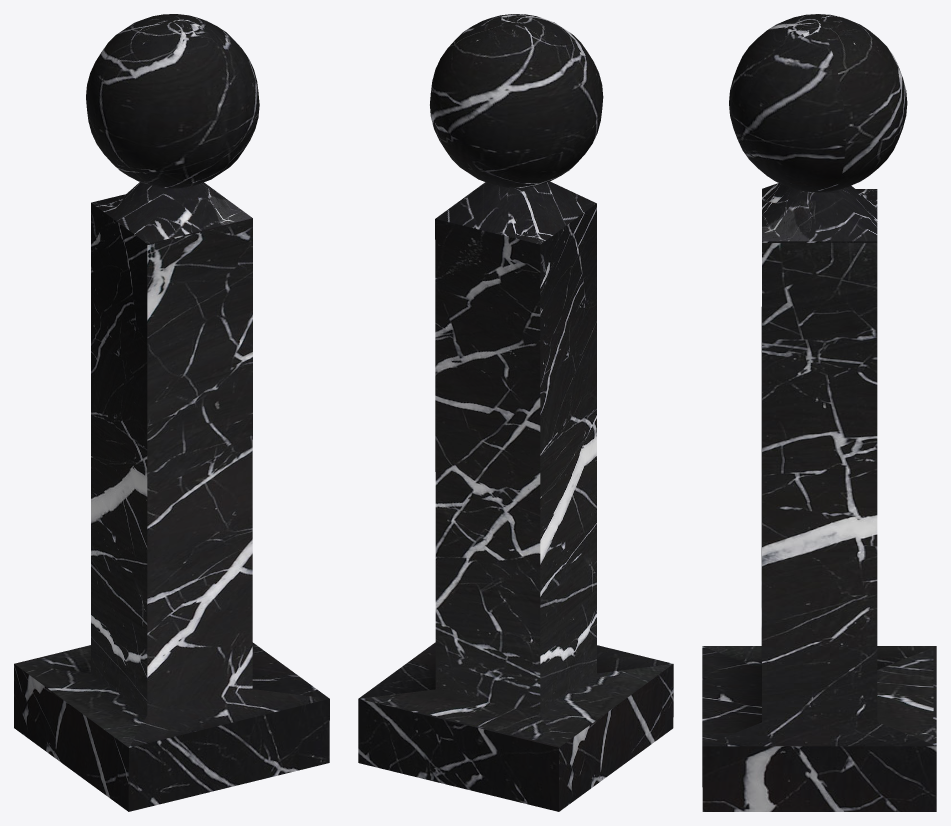
The model's file is rail1.fbx.
The picture shows the model from 3 angles, left to right: view 1: azimuth 30°, elevation 25°; view 2: azimuth 150°, elevation 25°; view 3: azimuth 270°, elevation 25°; orthographic projection. The views are drawn at different scales.
Parts seen in each view (by area): view 1: pCube1, pSphere1; view 2: pCube1, pSphere1; view 3: pCube1, pSphere1.
Part boxes in pixels (<box>): pCube1: <box>14,182,329,811</box>; pSphere1: <box>86,14,259,188</box>; pCube1: <box>358,181,673,811</box>; pSphere1: <box>430,14,603,187</box>; pCube1: <box>702,183,936,811</box>; pSphere1: <box>729,14,907,192</box>.
Size of the model in its own units: 14.02 by 48.24 by 13.87.
Materials: 1 (1 with a texture image).
